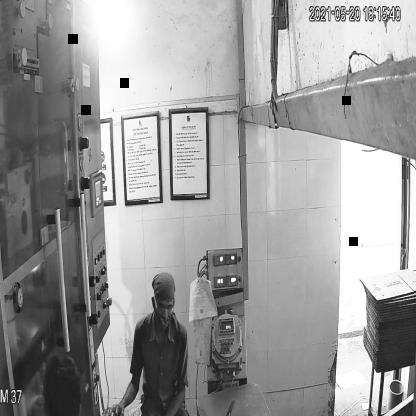goggles: (151, 294, 177, 318)
